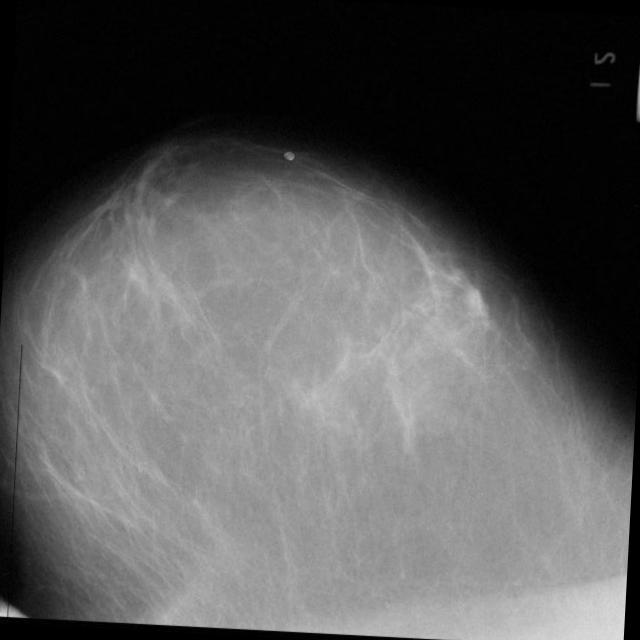CIRC: (456, 283, 494, 321)
